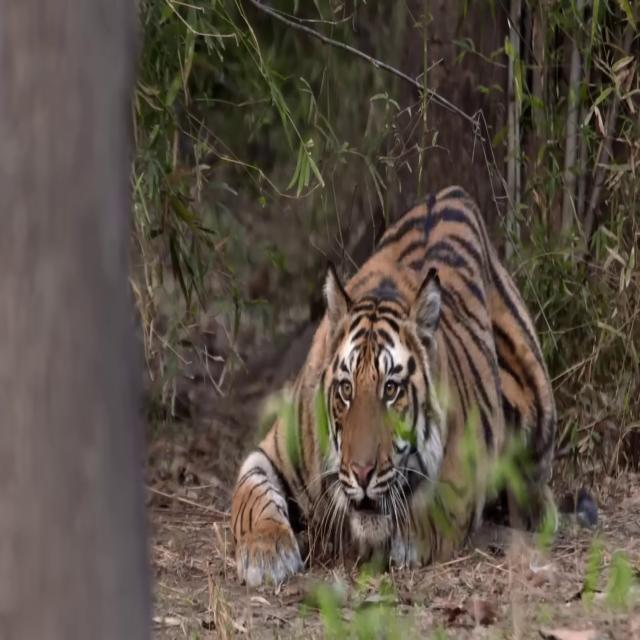tiger: (230, 185, 558, 587)
